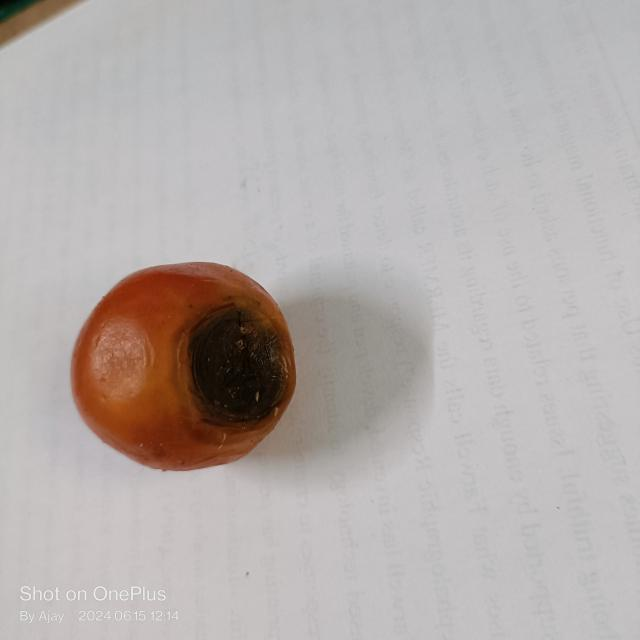Anthrocnose: (182, 293, 289, 425)
